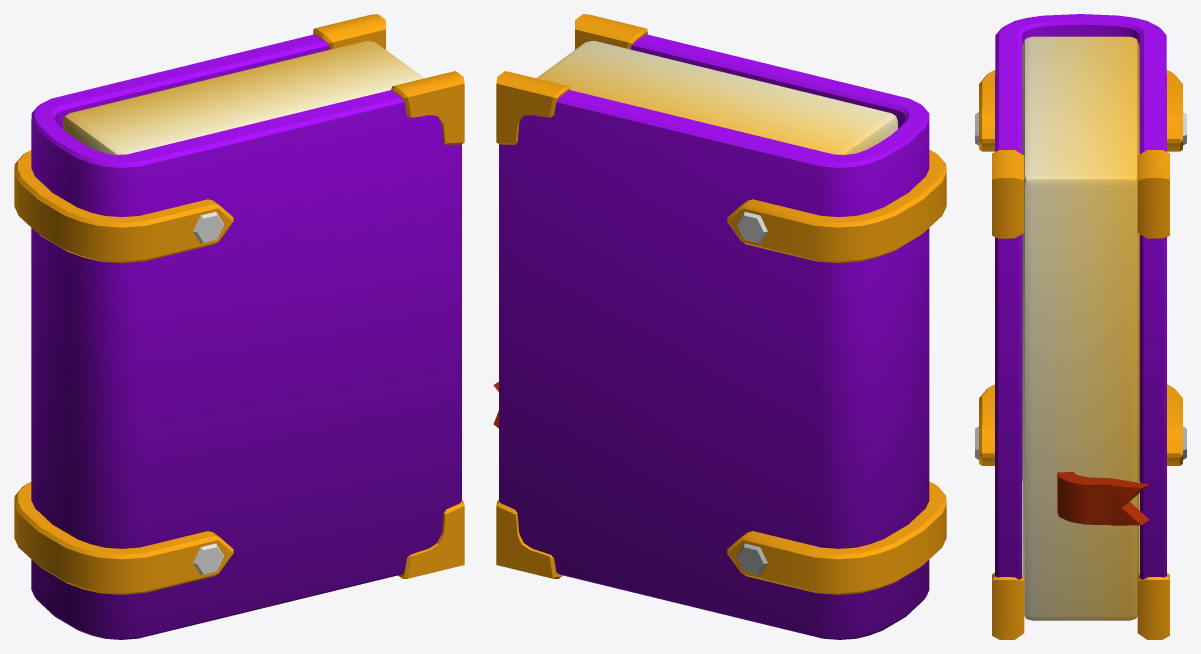
The model's file is Collectable_Book_01.fbx.
3 views of the same model, side by side, from view 1: azimuth 30°, elevation 25°; view 2: azimuth 150°, elevation 25°; view 3: azimuth 270°, elevation 25° (orthographic). The views are drawn at different scales.
Parts seen in each view (by area): view 1: Collectable_Book_01; view 2: Collectable_Book_01; view 3: Collectable_Book_01.
Boxes of the visible parts, x1,y1,x2,y2 form: Collectable_Book_01: [14, 14, 464, 639]; Collectable_Book_01: [493, 14, 946, 639]; Collectable_Book_01: [975, 14, 1186, 639].
Size of the model in its own units: 62.04 by 72.62 by 30.18.
1 material, 1 textured.
